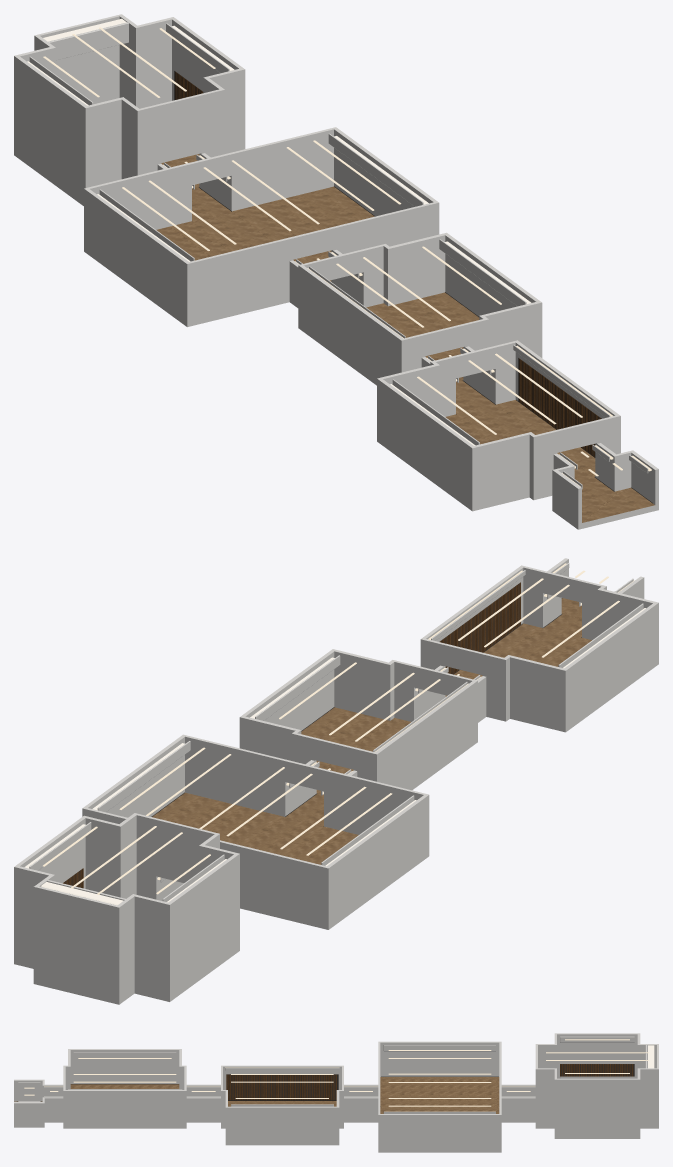
File: corridor-shell.glb
3 views of the same model, one above another, from view 1: azimuth 30°, elevation 25°; view 2: azimuth 150°, elevation 25°; view 3: azimuth 270°, elevation 25° (orthographic). The views are drawn at different scales.
Parts seen in each view (by area): view 1: corridor_shell; view 2: corridor_shell; view 3: corridor_shell.
Boxes of the visible parts, x1,y1,x2,y2 form: corridor_shell: (14, 14, 658, 529); corridor_shell: (14, 558, 658, 1004); corridor_shell: (14, 1033, 658, 1152).
Bounding box in the file's own units: 20.29 × 7.67 × 75.37.
9 materials, 2 textured.
